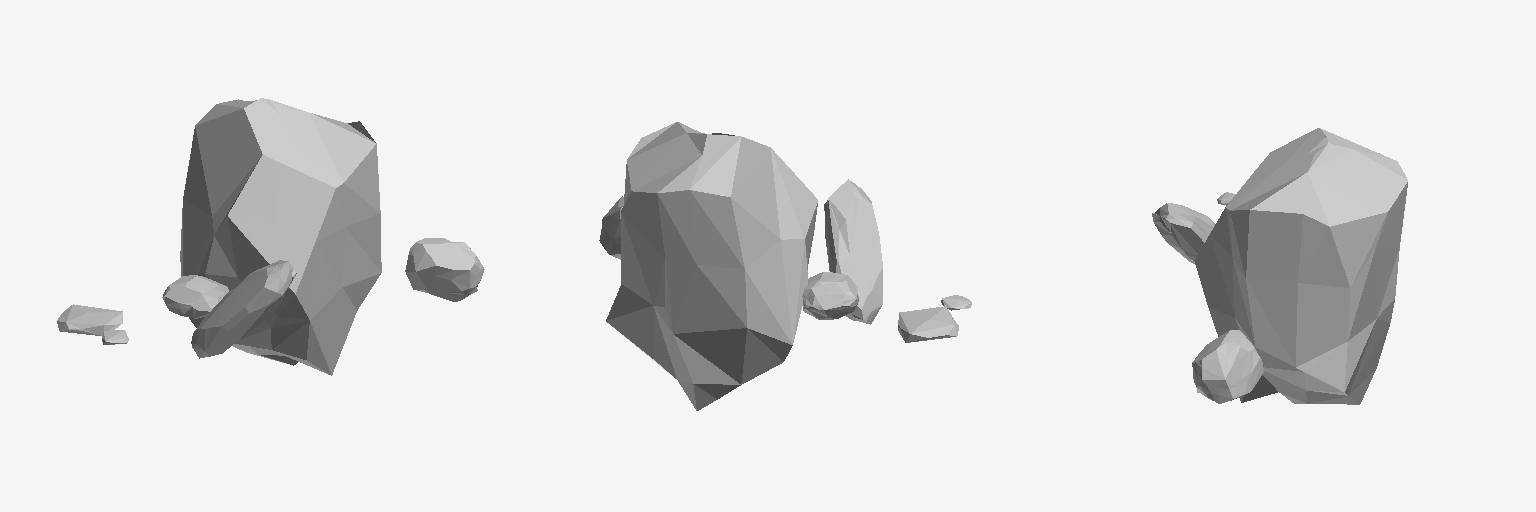
Rendered from RockGroupC.obj.
3 views of the same model, side by side, from view 1: azimuth 30°, elevation 25°; view 2: azimuth 150°, elevation 25°; view 3: azimuth 270°, elevation 25° (orthographic).
Visible parts, largest first — view 1: RockGroup_Cube.003; view 2: RockGroup_Cube.003; view 3: RockGroup_Cube.003.
Boxes of the visible parts, <box> form: RockGroup_Cube.003: <box>57,98,484,375</box>; RockGroup_Cube.003: <box>599,122,971,410</box>; RockGroup_Cube.003: <box>1152,128,1407,404</box>.
Size of the model in its own units: 2.33 by 1.54 by 1.35.